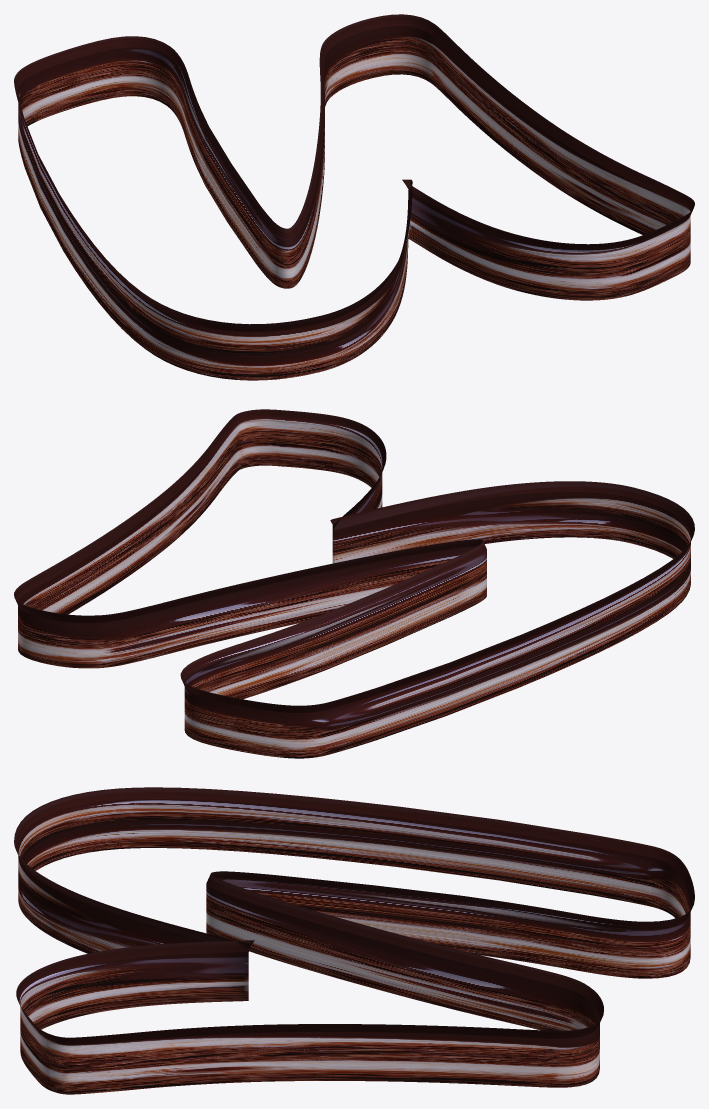
The model's file is myU.FBX.
The picture shows the model from 3 angles, top to bottom: view 1: azimuth 30°, elevation 25°; view 2: azimuth 150°, elevation 25°; view 3: azimuth 270°, elevation 25°; orthographic projection. The views are drawn at different scales.
Parts seen in each view (by area): view 1: myB; view 2: myB; view 3: myB.
Part boxes in pixels (x1,y1,x2,y2): myB: (14, 14, 694, 380); myB: (14, 409, 694, 758); myB: (14, 787, 694, 1094).
Size of the model in its own units: 54.8 by 6 by 63.
1 material, 1 textured.
